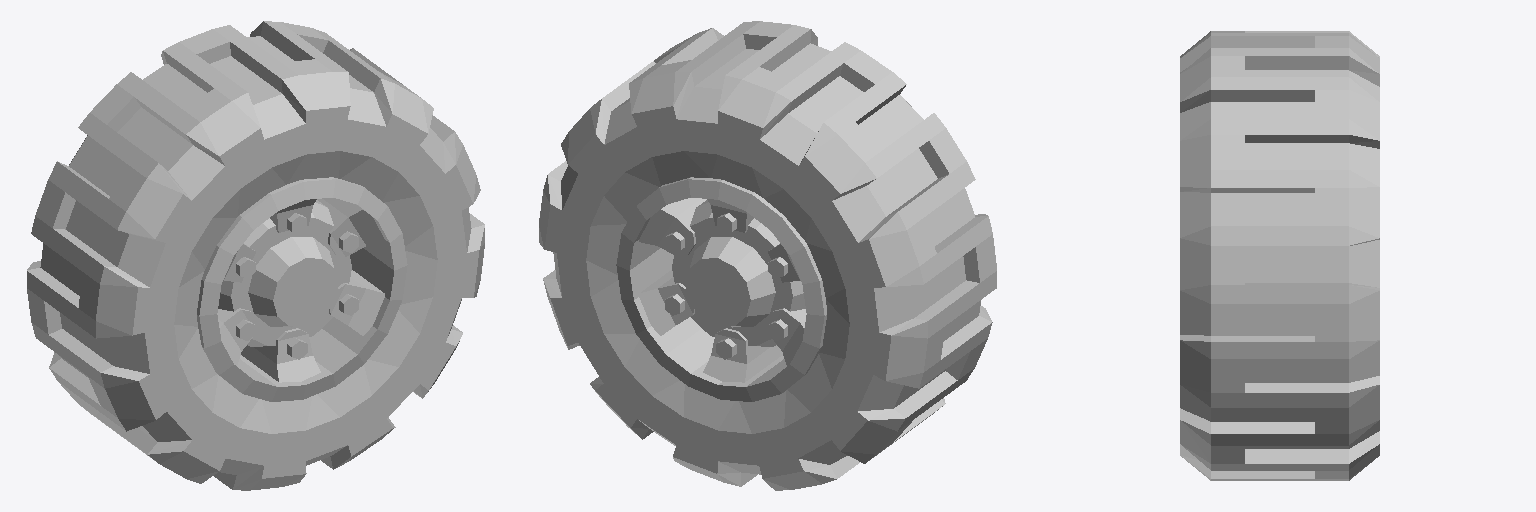
File: obj_interactive_fant_offroad_wheel_11.obj
3 views of the same model, side by side, from view 1: azimuth 30°, elevation 25°; view 2: azimuth 150°, elevation 25°; view 3: azimuth 270°, elevation 25° (orthographic).
Visible parts, largest first — view 1: obj_interactive_fant_offroad_wheel_11_Mesh; view 2: obj_interactive_fant_offroad_wheel_11_Mesh; view 3: obj_interactive_fant_offroad_wheel_11_Mesh.
Part boxes in pixels (x1,y1,x2,y2): obj_interactive_fant_offroad_wheel_11_Mesh: (27, 21, 484, 490); obj_interactive_fant_offroad_wheel_11_Mesh: (539, 21, 996, 490); obj_interactive_fant_offroad_wheel_11_Mesh: (1180, 31, 1379, 480).
Size of the model in its own units: 9 by 9 by 4.